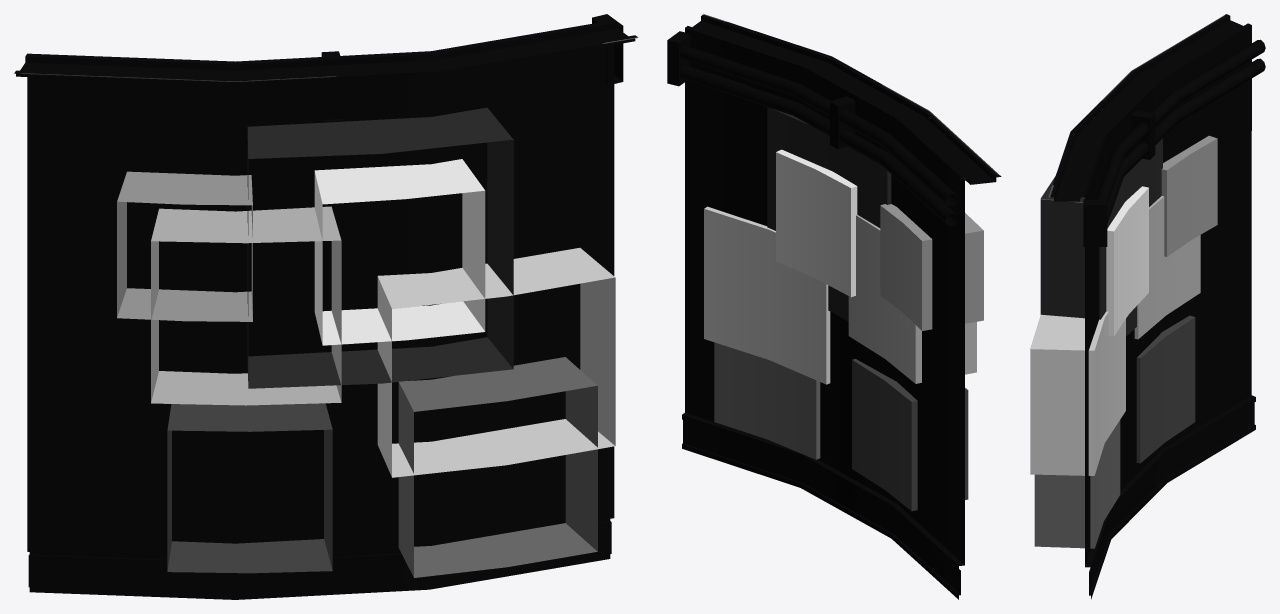
File: InwardWall45D.fbx
3 views of the same model, side by side, from view 1: azimuth 30°, elevation 25°; view 2: azimuth 150°, elevation 25°; view 3: azimuth 270°, elevation 25° (orthographic). The views are drawn at different scales.
Visible parts, largest first — view 1: FlatWallPipesHalfCorner3; view 2: FlatWallPipesHalfCorner3; view 3: FlatWallPipesHalfCorner3.
Boxes of the visible parts, left/top/right/bottom form: FlatWallPipesHalfCorner3: left=14, top=14, right=638, bottom=599; FlatWallPipesHalfCorner3: left=667, top=14, right=1001, bottom=599; FlatWallPipesHalfCorner3: left=1030, top=14, right=1265, bottom=599.
Size of the model in its own units: 388 by 392 by 208.
